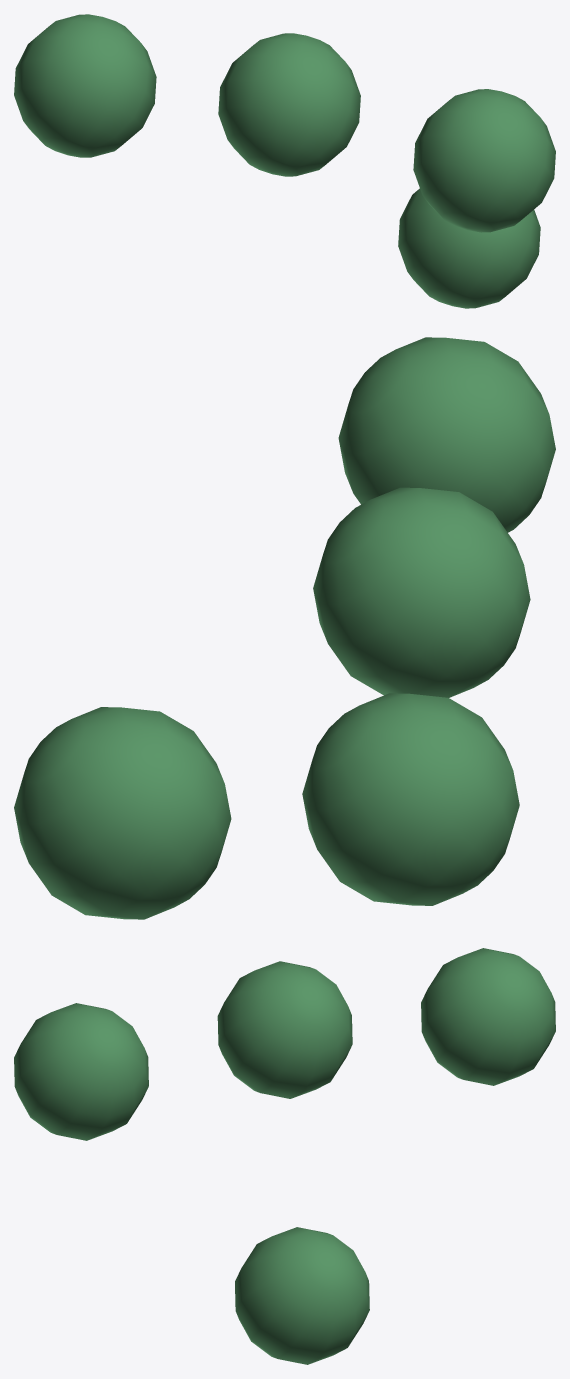
3 views of the same model, one above another, from view 1: azimuth 30°, elevation 25°; view 2: azimuth 150°, elevation 25°; view 3: azimuth 270°, elevation 25° (orthographic). The views are drawn at different scales.
Visible parts, largest first — view 1: 右侧锁骨上淋巴结; view 2: 右侧锁骨上淋巴结; view 3: 右侧锁骨上淋巴结.
Part boxes in pixels (<box>): 右侧锁骨上淋巴结: <box>14,14,555,308</box>; 右侧锁骨上淋巴结: <box>14,337,555,919</box>; 右侧锁骨上淋巴结: <box>14,948,555,1364</box>.
Bounding box in the file's own units: 0.0126 × 0.0092 × 0.015.
